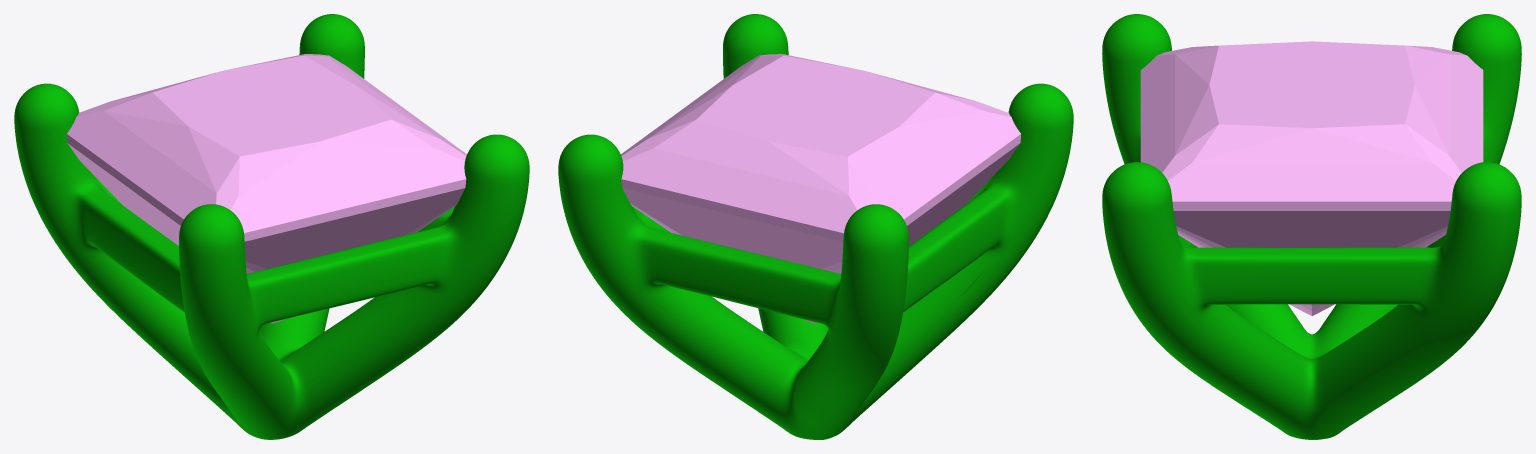
3 views of the same model, side by side, from view 1: azimuth 30°, elevation 25°; view 2: azimuth 150°, elevation 25°; view 3: azimuth 270°, elevation 25° (orthographic). The views are drawn at different scales.
Parts seen in each view (by area): view 1: Metal01, Diamond_Princess; view 2: Metal01, Diamond_Princess; view 3: Metal01, Diamond_Princess.
Part boxes in pixels (x1,y1,x2,y2): Metal01: [14, 14, 529, 439]; Diamond_Princess: [66, 54, 466, 323]; Metal01: [558, 14, 1073, 439]; Diamond_Princess: [620, 54, 1020, 323]; Metal01: [1102, 14, 1521, 439]; Diamond_Princess: [1140, 41, 1483, 315].
Size of the model in its own units: 6.74 by 6.11 by 6.74.
